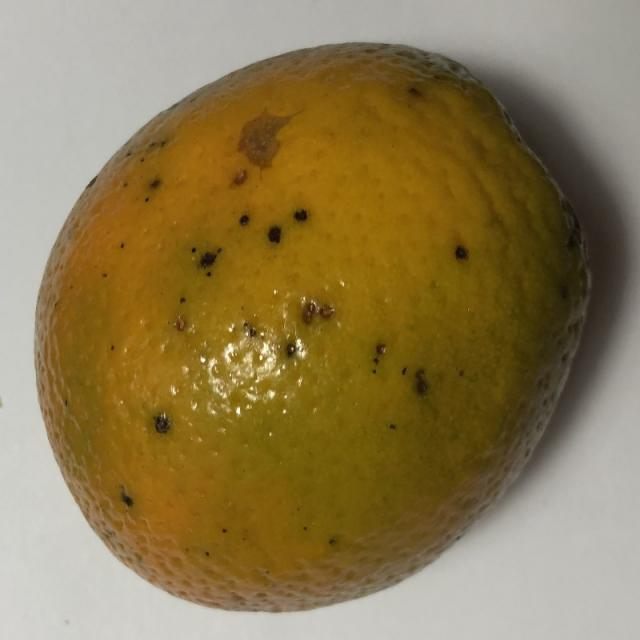blackspot: (28, 32, 611, 621)
